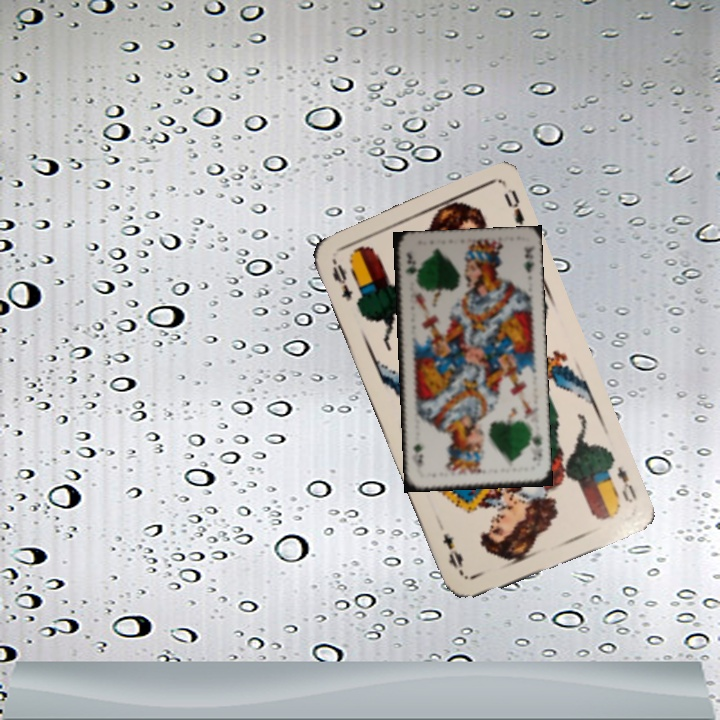EO: (327, 254, 356, 304), (612, 462, 640, 505)
GK: (526, 429, 546, 459), (401, 248, 417, 277)
